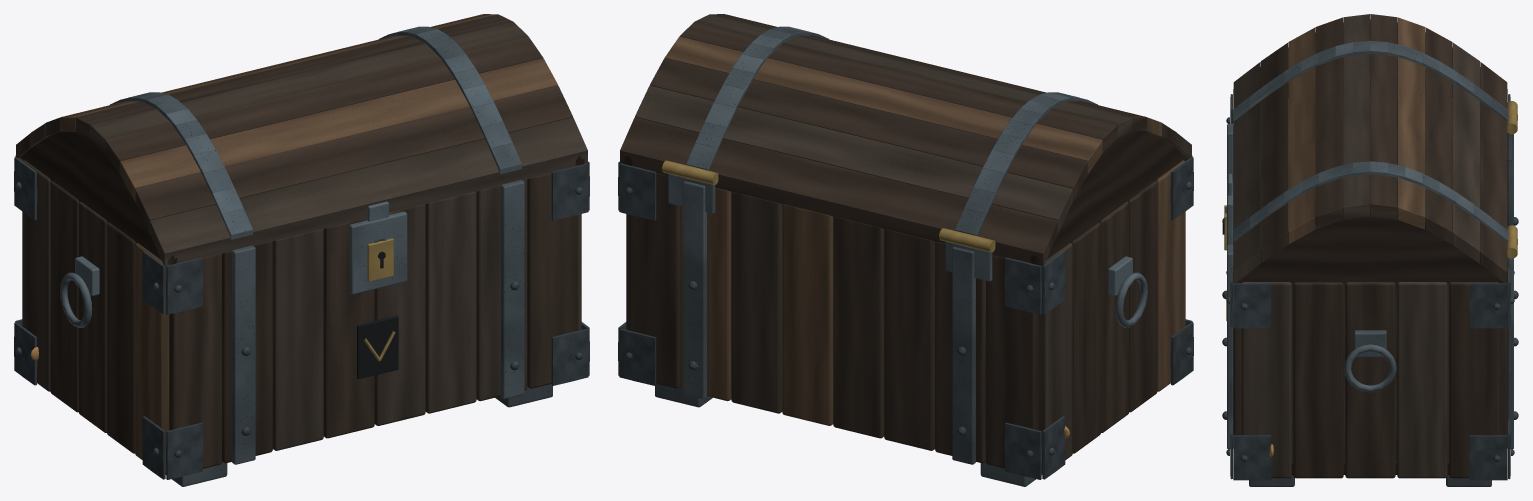
3 renders of one model, left to right at view 1: azimuth 30°, elevation 25°; view 2: azimuth 150°, elevation 25°; view 3: azimuth 270°, elevation 25°, orthographic. The views are drawn at different scales.
Visible parts, largest first — view 1: quarter-sawn hardwood (×2), weathered plank hardwood (×2), forged iron (×2), worn timber edges (×2), blackened strap iron, hardwood bevel and dark grain, recesses, aged brass fittings; view 2: quarter-sawn hardwood (×2), weathered plank hardwood (×2), worn timber edges (×2), forged iron (×2), blackened strap iron, hardwood bevel and dark grain, aged brass fittings; view 3: quarter-sawn hardwood (×2), weathered plank hardwood (×2), hardwood bevel and dark grain (×2), forged iron (×2), worn timber edges, blackened strap iron, aged brass fittings.
Boxes of the visible parts, x1,y1,x2,y2 form: quarter-sawn hardwood (×2): (16, 14, 578, 468); weathered plank hardwood (×2): (22, 21, 587, 450); forged iron (×2): (60, 26, 552, 486); worn timber edges (×2): (60, 14, 557, 473); blackened strap iron: (14, 155, 589, 479); hardwood bevel and dark grain: (20, 131, 584, 264); recesses: (357, 251, 398, 379); aged brass fittings: (363, 238, 395, 361); quarter-sawn hardwood (×2): (620, 14, 1176, 468); weathered plank hardwood (×2): (635, 14, 1191, 473); worn timber edges (×2): (664, 36, 1185, 425); forged iron (×2): (655, 26, 1147, 486); blackened strap iron: (618, 155, 1193, 479); hardwood bevel and dark grain: (623, 131, 1187, 265); aged brass fittings: (662, 160, 995, 252); quarter-sawn hardwood (×2): (1233, 14, 1507, 478); weathered plank hardwood (×2): (1233, 14, 1507, 478); hardwood bevel and dark grain (×2): (1233, 19, 1507, 474); forged iron (×2): (1227, 40, 1513, 486); worn timber edges: (1288, 17, 1425, 244); blackened strap iron: (1222, 94, 1518, 480); aged brass fittings: (1224, 101, 1517, 320).
Size of the model in its own units: 0.9 by 0.6088 by 0.548.
Materials: 10 (7 with a texture image).
